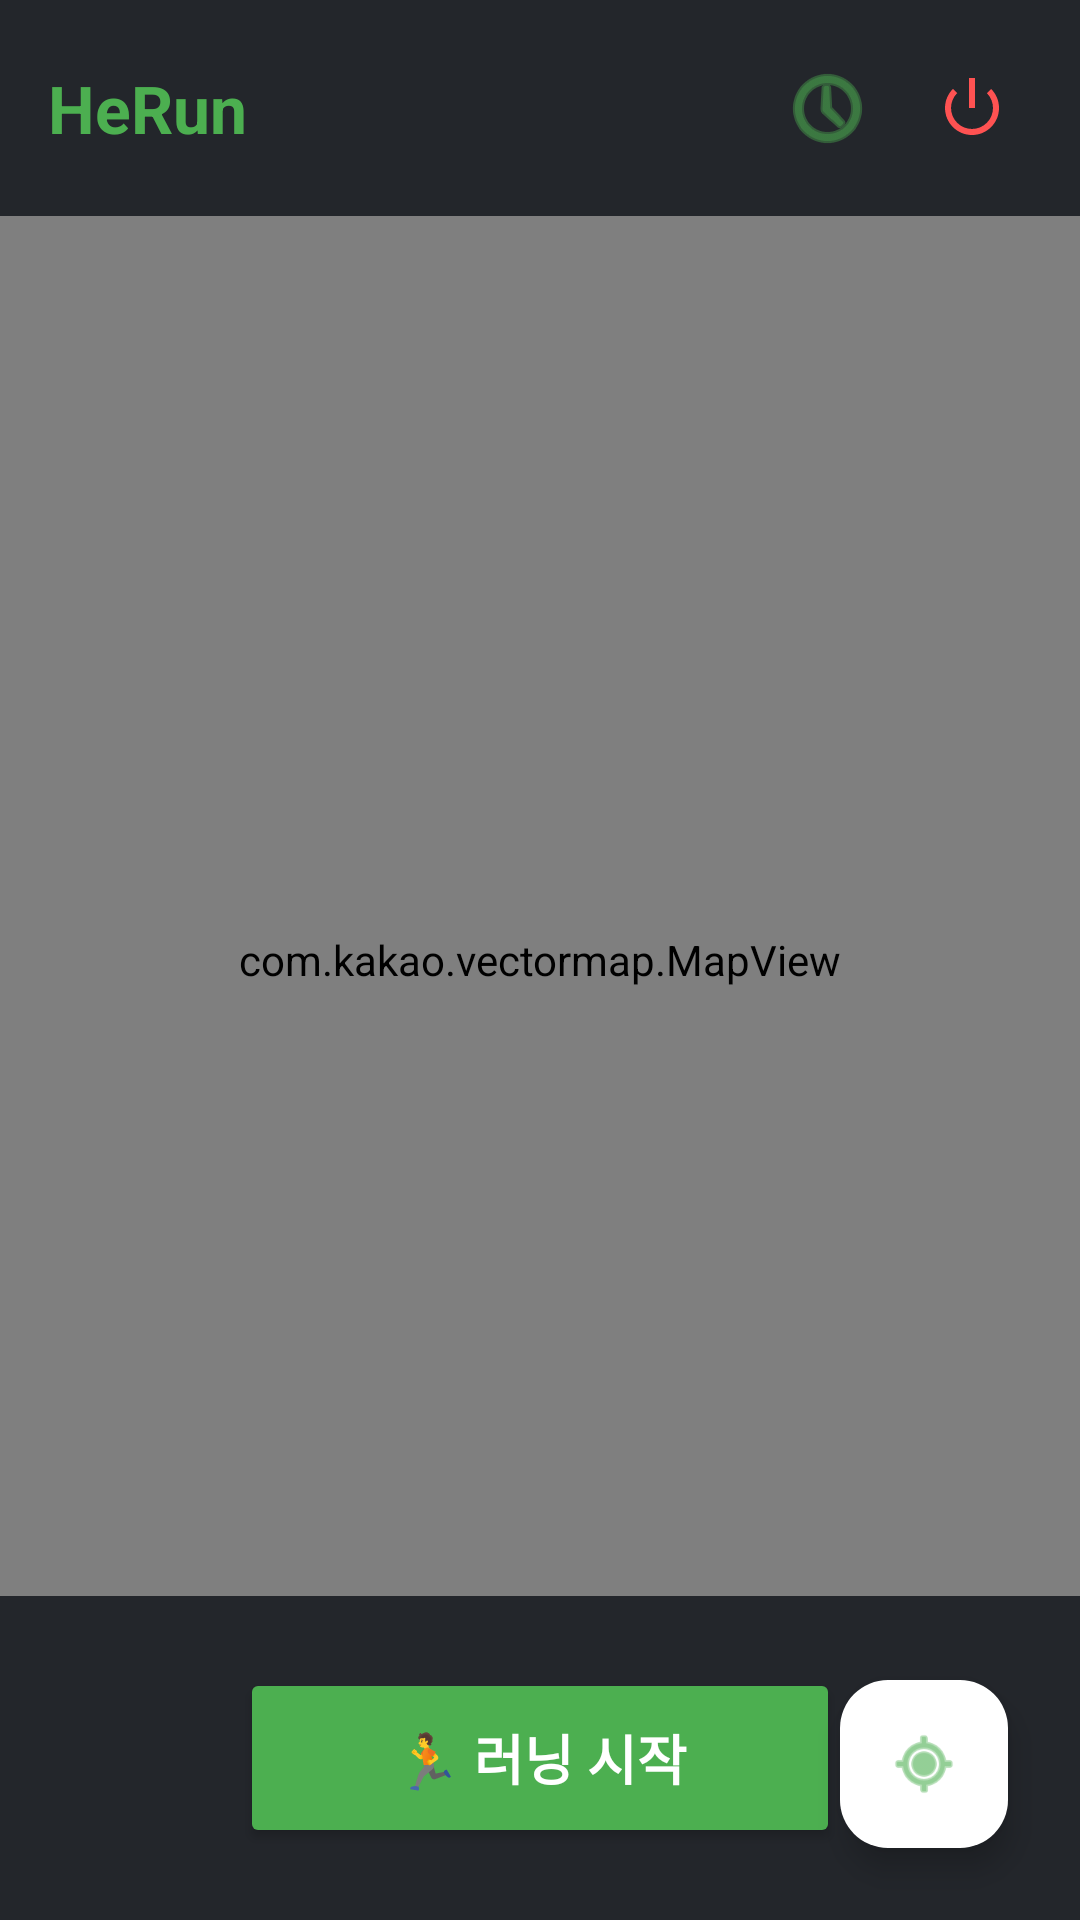

Icon bounding boxes for this 1080px×1920px phone screenshot, format bbox(x1, y1, x2, y2):
기록: bbox(793, 74, 862, 143)
내 위치: bbox(840, 1680, 1008, 1848)
로그아웃: bbox(945, 78, 999, 135)
